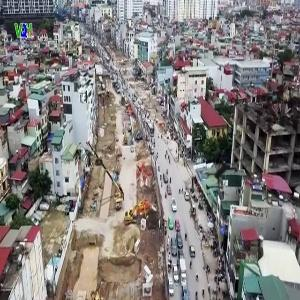drone: (190, 140, 260, 210)
